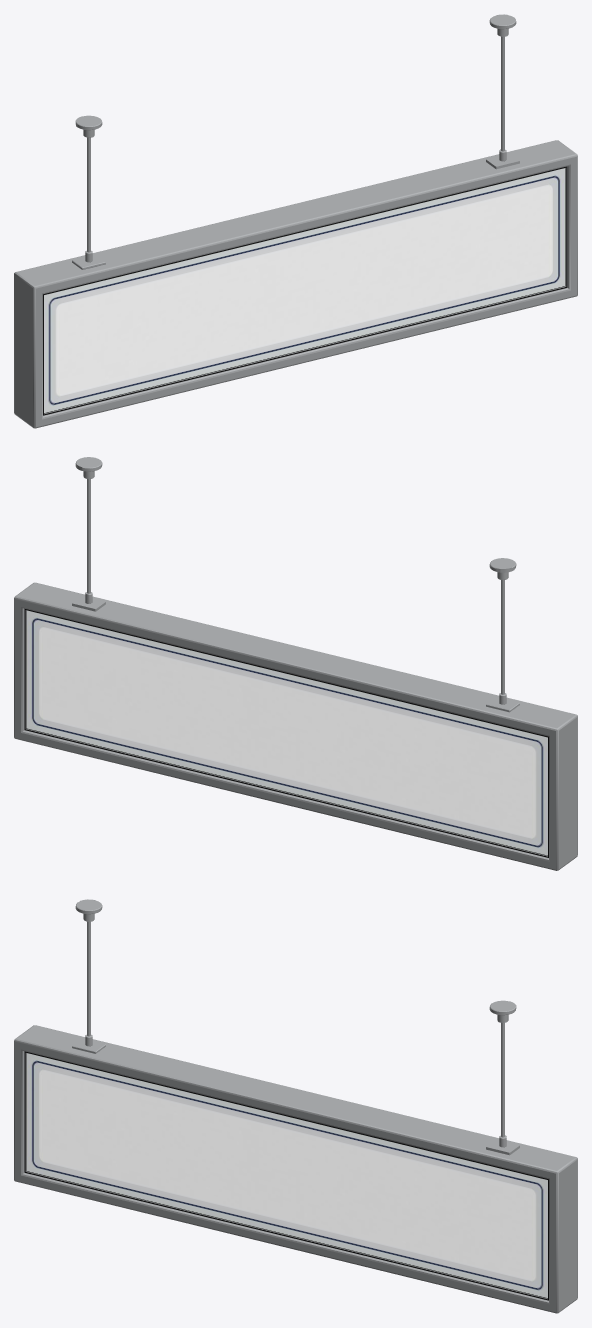
File: gteki_sign_hanging_white_none.glb
The picture shows the model from 3 angles, top to bottom: view 1: azimuth 30°, elevation 25°; view 2: azimuth 150°, elevation 25°; view 3: azimuth 330°, elevation 25°; orthographic projection.
Visible parts, largest first — view 1: VIS_faces, VIS_frame, VIS_mount; view 2: VIS_faces, VIS_frame, VIS_mount; view 3: VIS_faces, VIS_frame, VIS_mount.
Boxes of the visible parts, box(x1,y1,x2,y2) form: VIS_faces: box(44, 168, 565, 412); VIS_frame: box(14, 140, 577, 428); VIS_mount: box(72, 14, 519, 269); VIS_faces: box(26, 610, 547, 855); VIS_frame: box(14, 582, 577, 870); VIS_mount: box(72, 457, 519, 712); VIS_faces: box(26, 1053, 547, 1297); VIS_frame: box(14, 1025, 577, 1313); VIS_mount: box(72, 899, 519, 1155).
Bounding box in the file's own units: 1.8 × 0.9 × 0.12.
3 materials, 1 textured.
